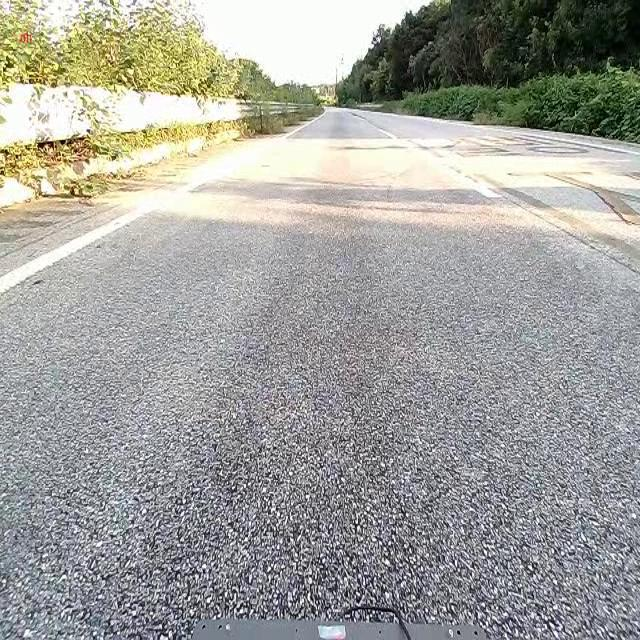Lane: (0, 206, 152, 294), (0, 208, 152, 294)
